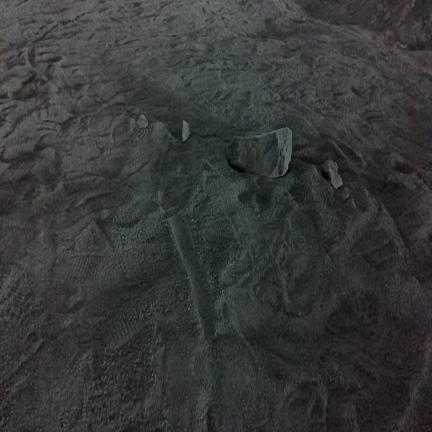Rock: (226, 128, 292, 177), (323, 160, 342, 188), (182, 120, 190, 142), (137, 115, 148, 128)
